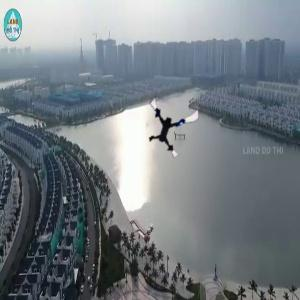drone: (140, 96, 197, 153)
